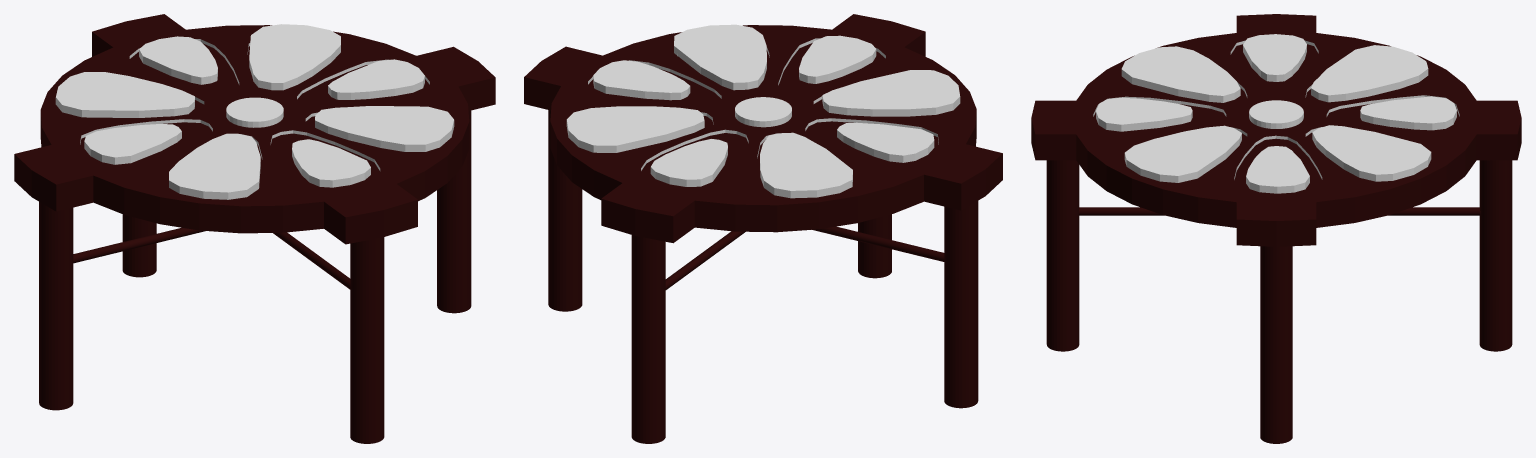
Rendered from mesa_atualizada_3d.glb.
The picture shows the model from 3 angles, left to right: view 1: azimuth 30°, elevation 25°; view 2: azimuth 150°, elevation 25°; view 3: azimuth 270°, elevation 25°; orthographic projection. The views are drawn at different scales.
Parts seen in each view (by area): view 1: Cylinder, Cylinder.003, Cylinder.005, Plane.014, Plane.010, Cylinder.004, Plane.012, Plane.016, Plane.011, Plane.015, Plane.013, Plane.008 (+4 smaller); view 2: Cylinder, Cylinder.002, Cylinder.005, Plane.012, Plane.016, Cylinder.004, Plane.010, Plane.014, Plane.011, Plane.015, Plane.013, Plane.008 (+4 smaller); view 3: Cylinder, Cylinder.004, Cylinder.002, Cylinder.003, Plane.016, Plane.012, Plane.010, Plane.014, Plane.008, Plane.013, Plane.011, Plane.015 (+2 smaller).
Boxes of the visible parts, x1,y1,x2,y2 form: Cylinder: (14,14,495,244); Cylinder.003: (350,237,384,443); Cylinder.005: (39,202,73,410); Plane.014: (315,106,454,151); Plane.010: (55,72,194,117); Cylinder.004: (437,110,471,313); Plane.012: (169,133,260,199); Plane.016: (249,24,340,90); Plane.011: (84,124,181,164); Plane.015: (328,59,424,99); Plane.013: (292,139,370,187); Plane.008: (139,36,217,84); Cylinder: (524,14,1002,243); Cylinder.002: (631,235,665,443); Cylinder.005: (944,201,978,408); Plane.012: (822,70,960,116); Plane.016: (566,106,704,152); Cylinder.004: (548,110,582,311); Plane.010: (760,132,852,198); Plane.014: (674,24,766,90); Plane.011: (837,122,934,162); Plane.015: (593,60,690,100); Plane.013: (799,35,876,83); Plane.008: (650,139,727,186); Cylinder: (1031,14,1521,246); Cylinder.004: (1260,246,1292,443); Cylinder.002: (1479,160,1512,351); Cylinder.003: (1046,160,1079,351); Plane.016: (1312,125,1431,181); Plane.012: (1121,46,1240,102); Plane.010: (1311,45,1428,102); Plane.014: (1124,125,1241,182); Plane.008: (1360,96,1456,130); Plane.013: (1096,97,1192,131); Plane.011: (1243,34,1306,81); Plane.015: (1246,146,1309,193).
Bounding box in the file's own units: 2.4 × 1.26 × 2.4.
